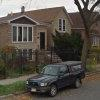Car: (17, 46, 85, 95)
